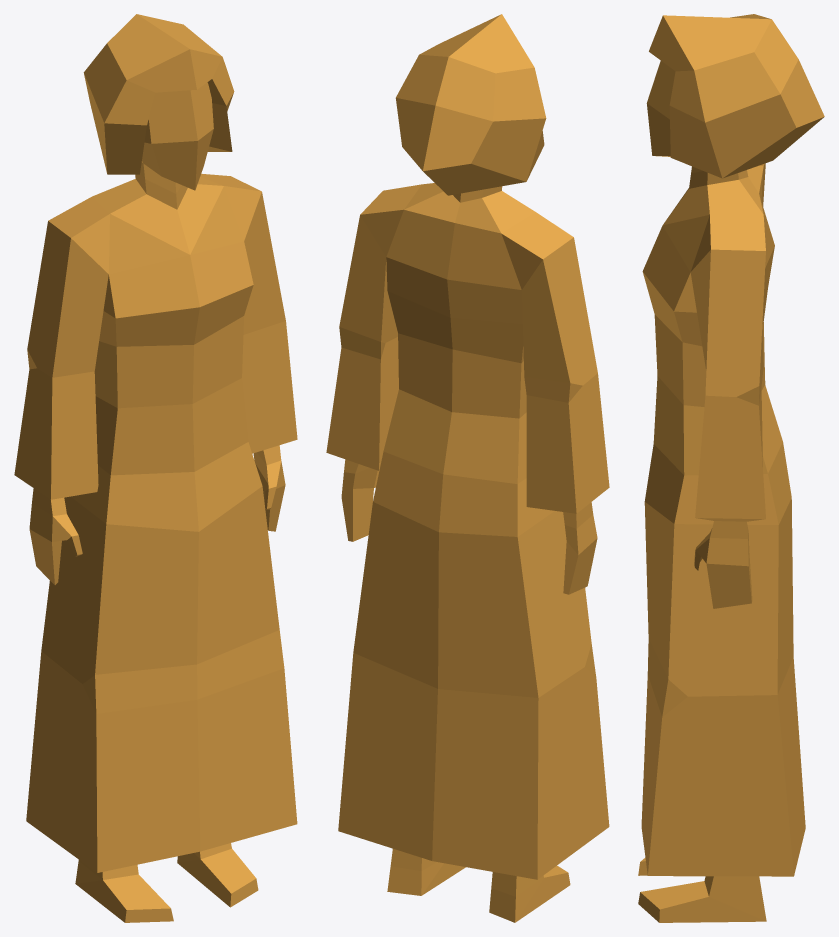
Rendered from woman-lady.fbx.
3 views of the same model, side by side, from view 1: azimuth 30°, elevation 25°; view 2: azimuth 150°, elevation 25°; view 3: azimuth 270°, elevation 25° (orthographic). The views are drawn at different scales.
Parts seen in each view (by area): view 1: woman-lady; view 2: woman-lady; view 3: woman-lady.
Boxes of the visible parts, x1=… form: woman-lady: x1=14, y1=14, x2=297, y2=922; woman-lady: x1=326, y1=14, x2=609, y2=922; woman-lady: x1=638, y1=14, x2=824, y2=922.
Bounding box in the file's own units: 0.5642 × 1.85 × 0.3569.
